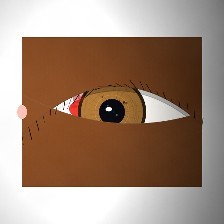hemorrhage_spot: (56, 72, 149, 146)
